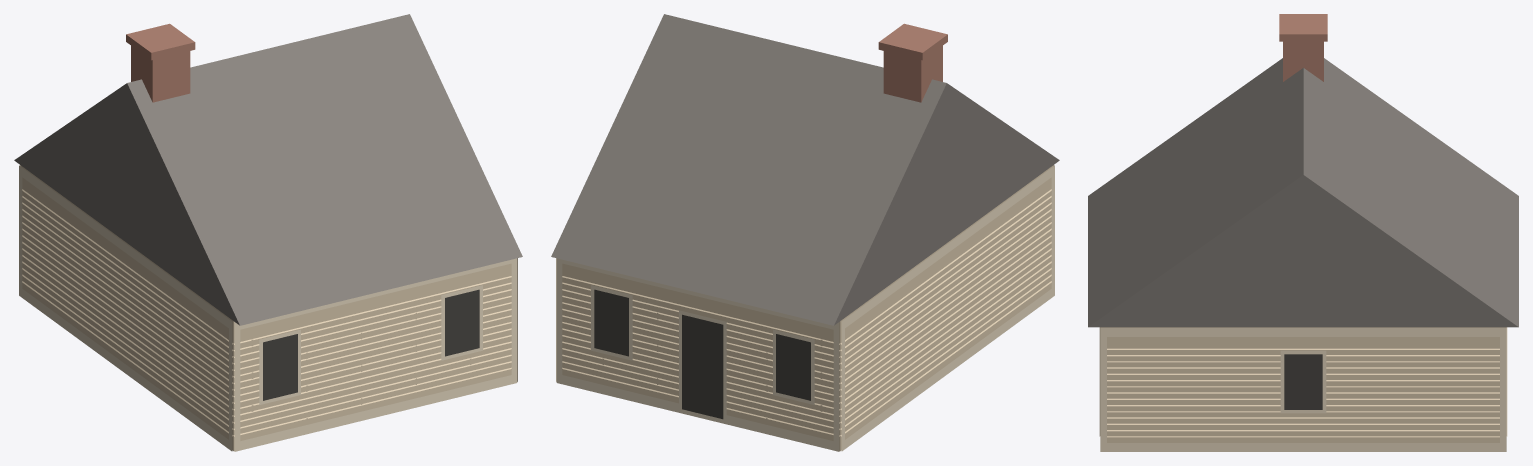
File: recon_1835_south_d4_014__inferred_1835.glb
3 views of the same model, side by side, from view 1: azimuth 30°, elevation 25°; view 2: azimuth 150°, elevation 25°; view 3: azimuth 270°, elevation 25° (orthographic). The views are drawn at different scales.
Visible parts, largest first — view 1: recon_1835_south_d4_014__inferred_1835; view 2: recon_1835_south_d4_014__inferred_1835; view 3: recon_1835_south_d4_014__inferred_1835.
Boxes of the visible parts, x1,y1,x2,y2 form: recon_1835_south_d4_014__inferred_1835: (14,14,522,451); recon_1835_south_d4_014__inferred_1835: (551,14,1059,451); recon_1835_south_d4_014__inferred_1835: (1088,14,1518,451).
Size of the model in its own units: 6.4 by 6.98 by 8.75.
